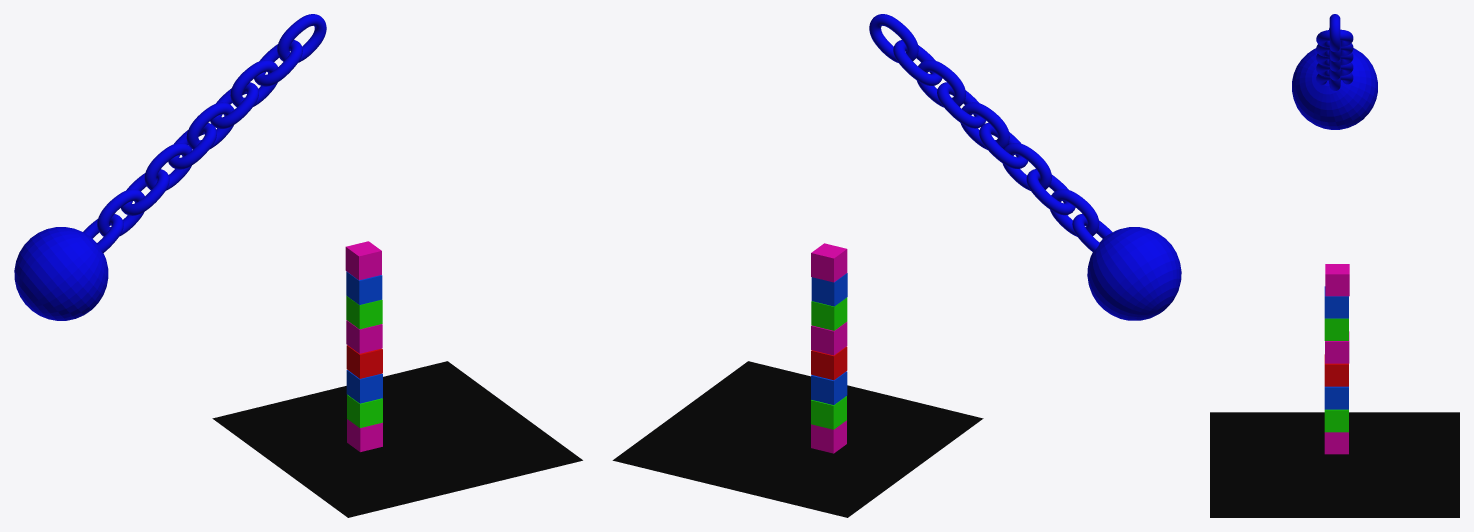
The model's file is chain.glb.
The picture shows the model from 3 angles, left to right: view 1: azimuth 30°, elevation 25°; view 2: azimuth 150°, elevation 25°; view 3: azimuth 270°, elevation 25°; orthographic projection. The views are drawn at different scales.
Parts seen in each view (by area): view 1: Plane, BezierCircle.011, BezierCircle, Cube.006, BezierCircle.008, BezierCircle.010, BezierCircle.002, BezierCircle.009, BezierCircle.001, BezierCircle.004, BezierCircle.003, Cube.007 (+7 smaller); view 2: Plane, BezierCircle.011, BezierCircle, Cube.006, BezierCircle.008, BezierCircle.010, BezierCircle.002, BezierCircle.004, BezierCircle.009, BezierCircle.001, BezierCircle.003, Cube.004 (+7 smaller); view 3: Plane, BezierCircle.011, Cube.006, Cube.007, Cube.004, Cube.009, Cube.002, Cube.001, Cube.008, Cube.010, BezierCircle, BezierCircle.001.
Boxes of the visible parts, x1,y1,x2,y2 form: Plane: (212, 361, 582, 517); BezierCircle.011: (14, 214, 123, 320); BezierCircle: (277, 14, 326, 62); Cube.006: (345, 241, 381, 280); BezierCircle.008: (144, 143, 192, 190); BezierCircle.010: (97, 189, 144, 236); BezierCircle.002: (230, 60, 277, 107); BezierCircle.009: (121, 169, 169, 215); BezierCircle.001: (254, 40, 302, 86); BezierCircle.004: (186, 102, 234, 149); BezierCircle.003: (210, 82, 258, 128); Cube.007: (346, 345, 382, 378); Plane: (612, 361, 983, 517); BezierCircle.011: (1072, 214, 1181, 320); BezierCircle: (869, 14, 918, 62); Cube.006: (811, 243, 847, 282); BezierCircle.008: (1003, 143, 1051, 190); BezierCircle.010: (1050, 189, 1099, 236); BezierCircle.002: (916, 60, 965, 107); BezierCircle.004: (960, 102, 1009, 149); BezierCircle.009: (1026, 169, 1075, 215); BezierCircle.001: (893, 40, 942, 85); BezierCircle.003: (937, 82, 985, 128); Cube.004: (811, 371, 847, 404); Plane: (1210, 412, 1459, 517); BezierCircle.011: (1292, 48, 1377, 129); Cube.006: (1325, 264, 1349, 296); Cube.007: (1324, 354, 1348, 386); Cube.004: (1324, 386, 1348, 409); Cube.009: (1324, 409, 1348, 432); Cube.002: (1324, 286, 1348, 318); Cube.001: (1325, 331, 1349, 363); Cube.008: (1324, 432, 1348, 454); Cube.010: (1324, 318, 1348, 340); BezierCircle: (1329, 14, 1340, 51); BezierCircle.001: (1316, 29, 1353, 47).
Size of the model in its own units: 43.17 by 37.18 by 20.53.
